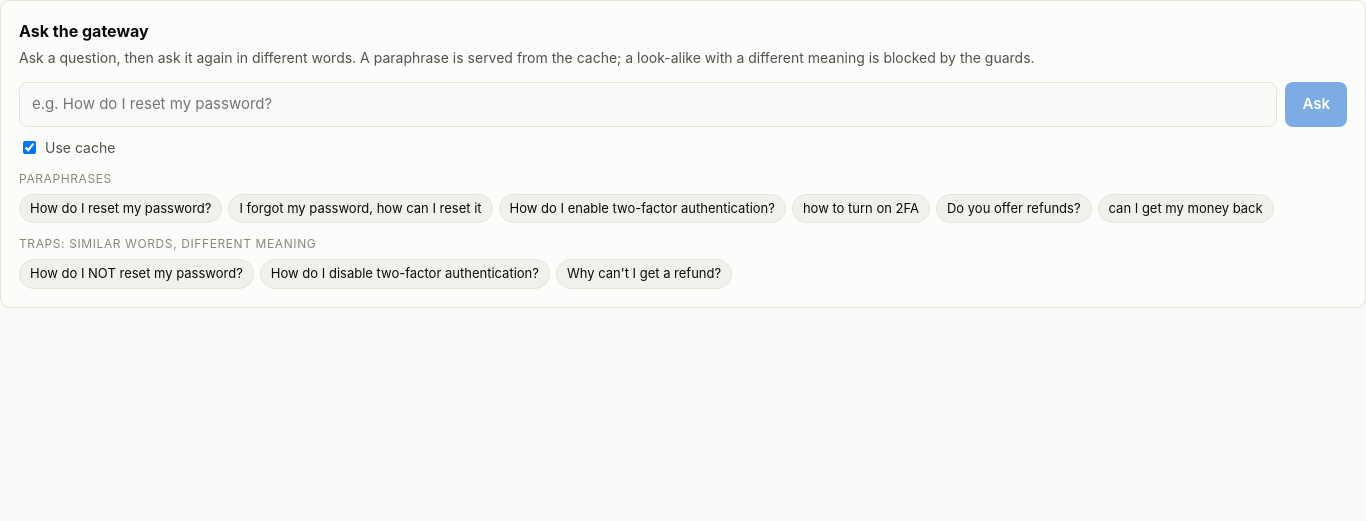
Test case: QueryPlayground › can bypass the cache
What coordinates should you click on to do the following:
click the checkbox labelled "Use cache"
I would click on:
 (30, 147)
Its box is [23,140,36,154].
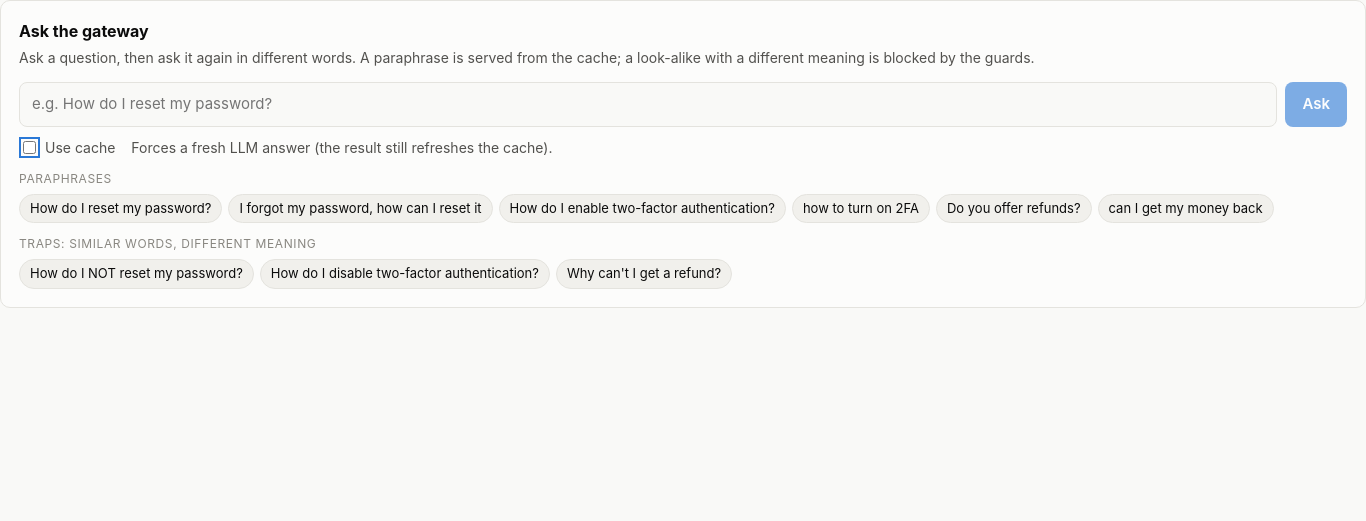
What coordinates should you click on to do the following:
click the button "Do you offer refunds?"
I would click on:
 (1014, 208)
Its box is [936,194,1092,223].
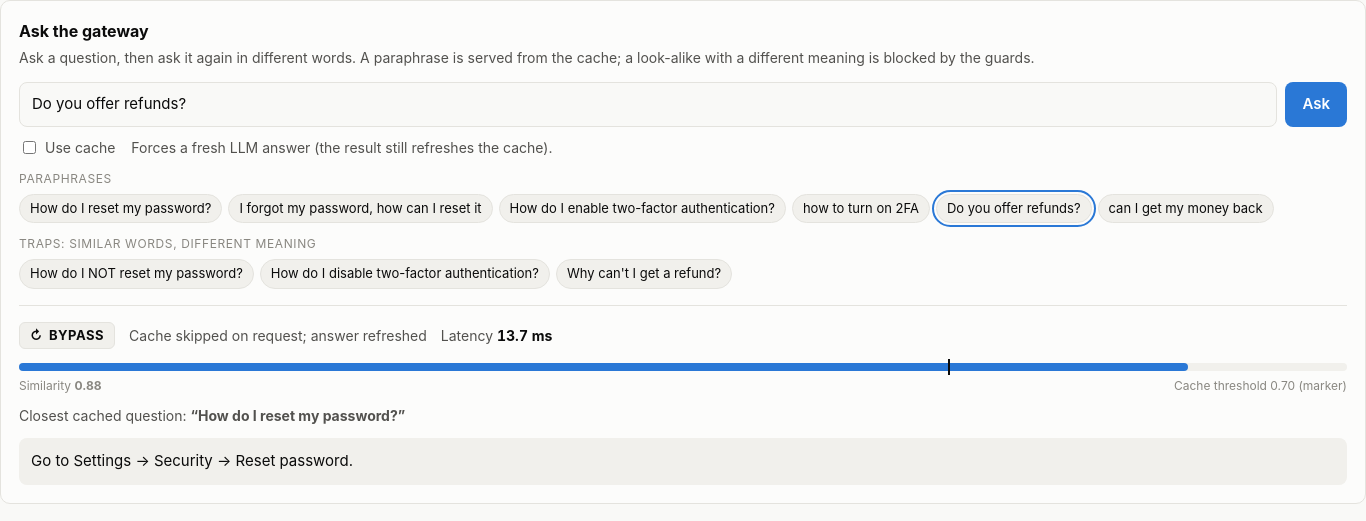
Result: the text "BYPASS" is shown at [49,326,104,342]
